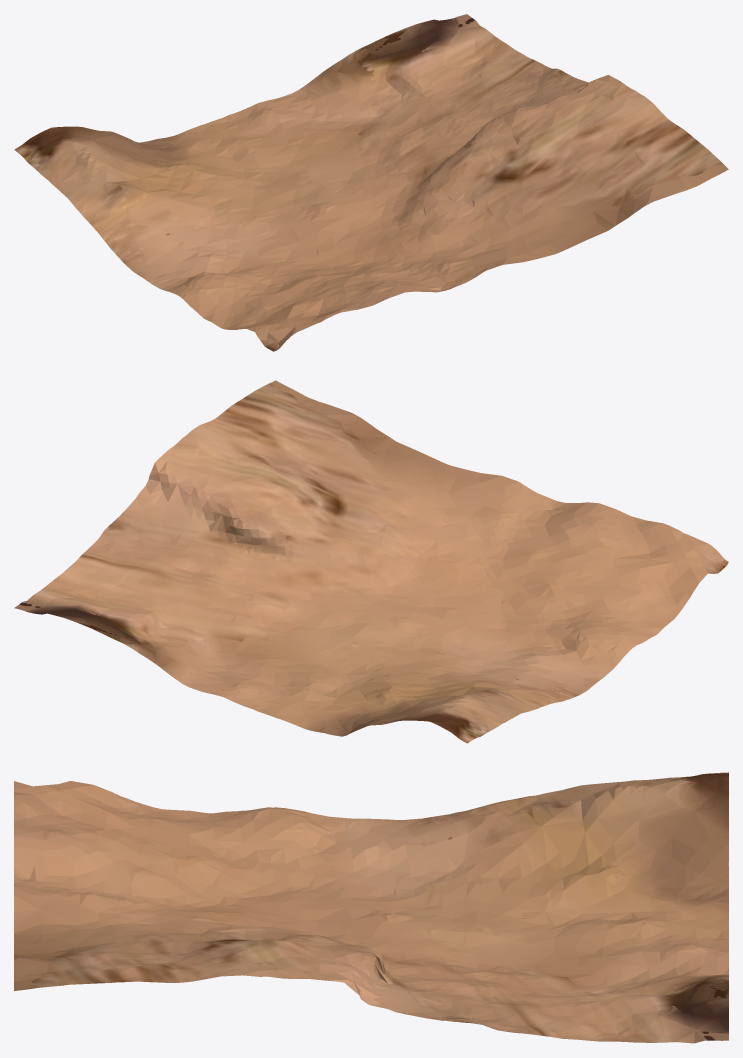
3 views of the same model, one above another, from view 1: azimuth 30°, elevation 25°; view 2: azimuth 150°, elevation 25°; view 3: azimuth 270°, elevation 25° (orthographic). The views are drawn at different scales.
Size of the model in its own units: 1.04 by 0.2367 by 1.04.
Materials: 2 (2 with a texture image).
